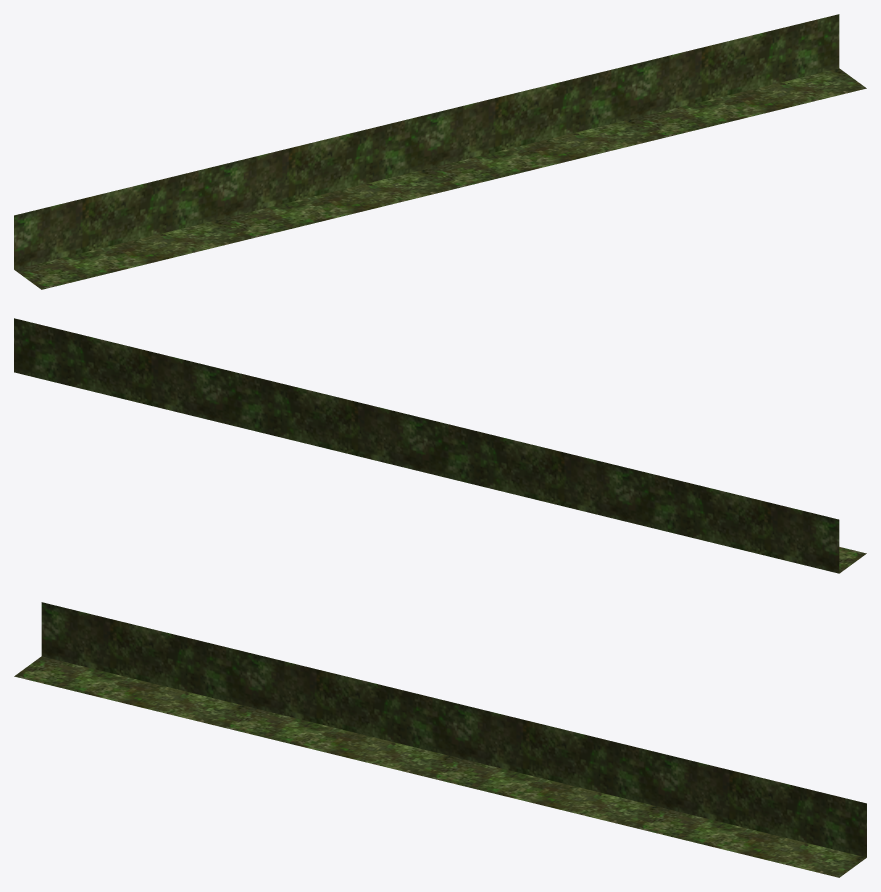
The model's file is OVERHILL_A_01_OBJECT119.fbx.
The picture shows the model from 3 angles, top to bottom: view 1: azimuth 30°, elevation 25°; view 2: azimuth 150°, elevation 25°; view 3: azimuth 330°, elevation 25°; orthographic projection.
Visible parts, largest first — view 1: OVERHILL_A_01_OBJECT119; view 2: OVERHILL_A_01_OBJECT119; view 3: OVERHILL_A_01_OBJECT119.
Boxes of the visible parts, left/top/right/bottom form: OVERHILL_A_01_OBJECT119: left=14, top=14, right=866, bottom=289; OVERHILL_A_01_OBJECT119: left=14, top=318, right=866, bottom=573; OVERHILL_A_01_OBJECT119: left=14, top=602, right=866, bottom=877.
Bounding box in the file's own units: 119935 × 7518 × 6956.
Materials: 1 (1 with a texture image).
